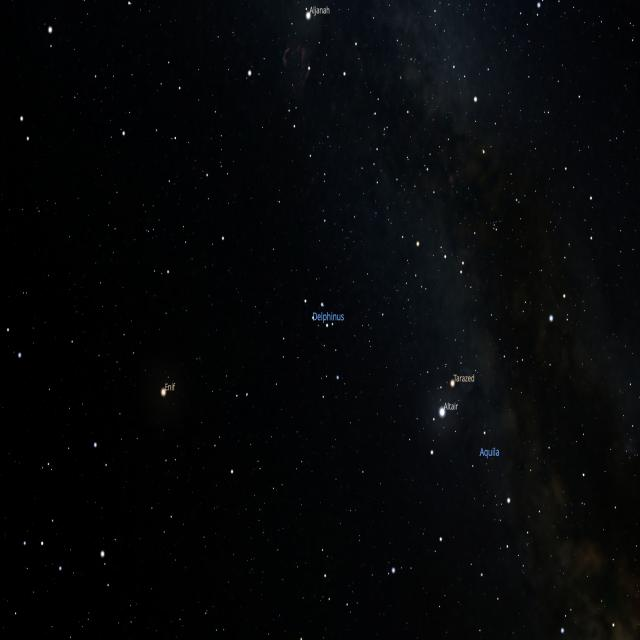Delphinus: (300, 292, 352, 412)
